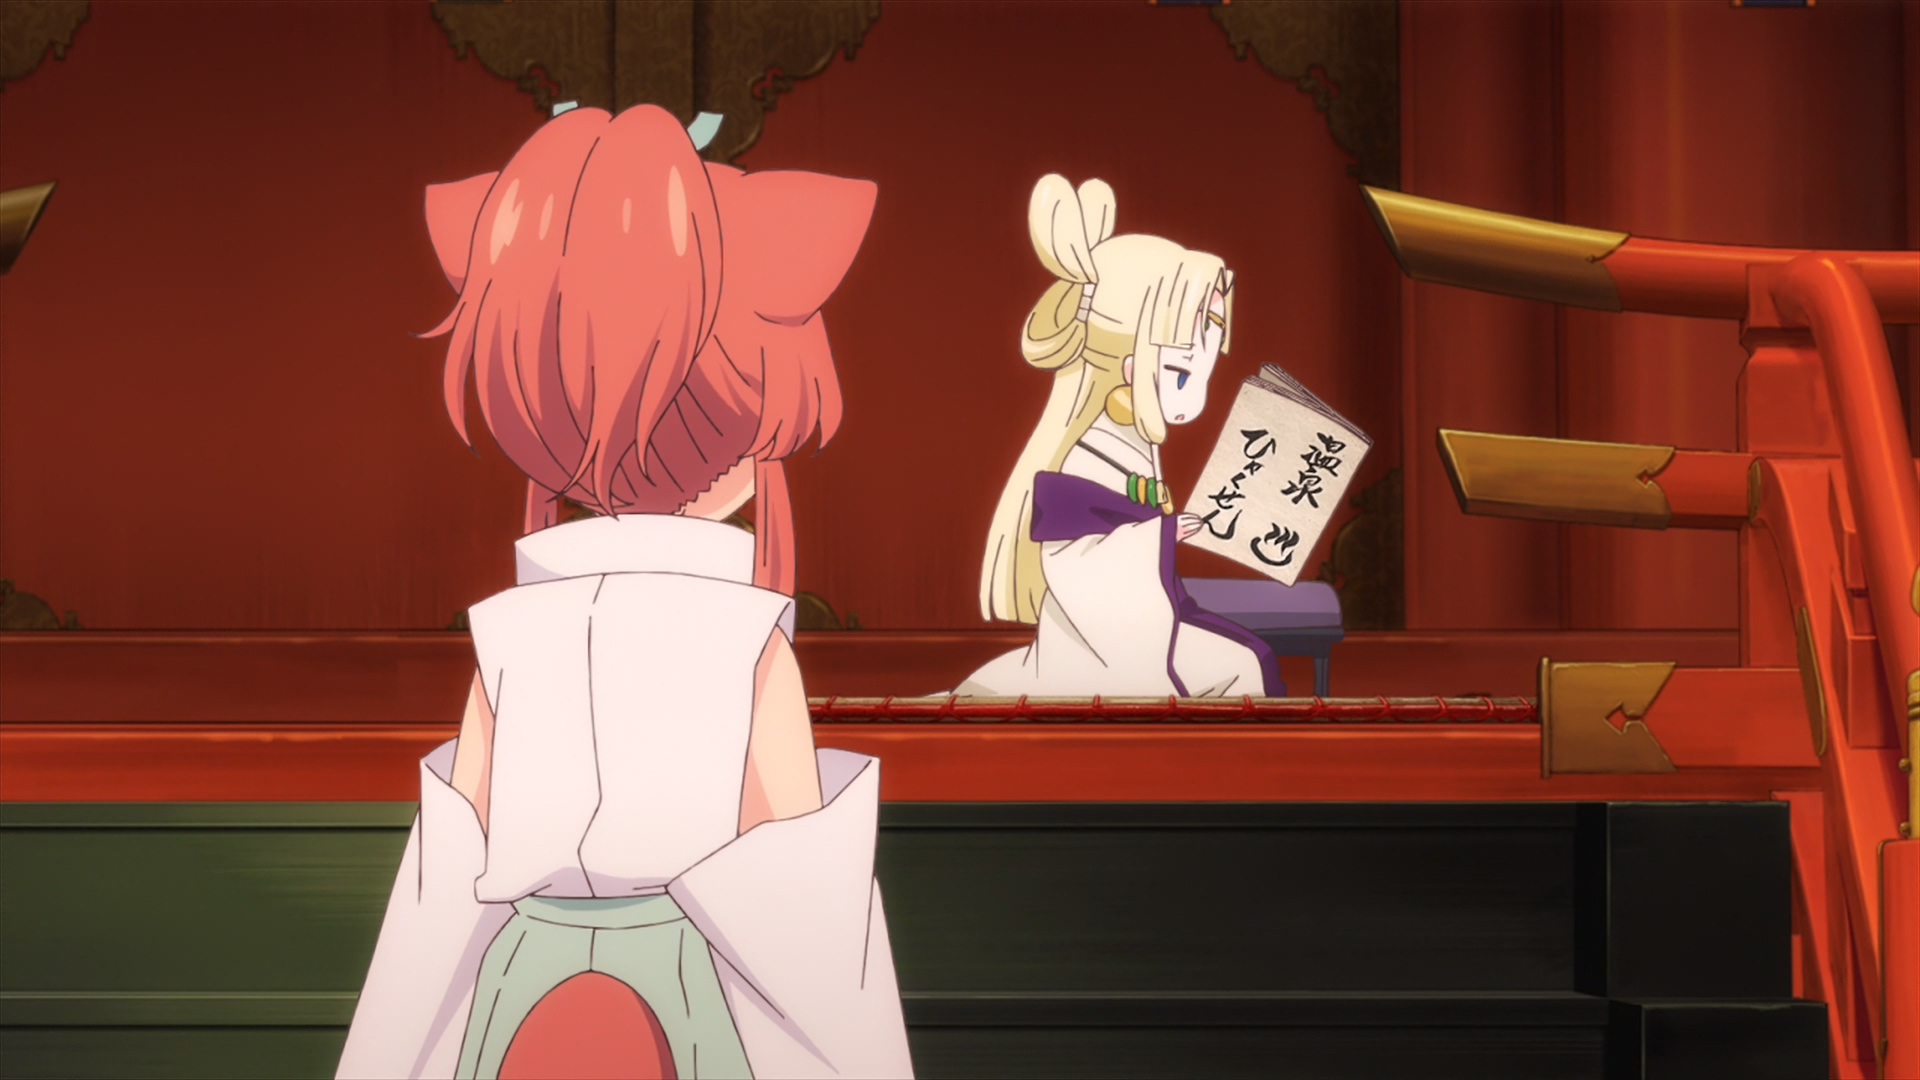其他: (952, 171, 1280, 698)
椿: (334, 98, 916, 1080)
